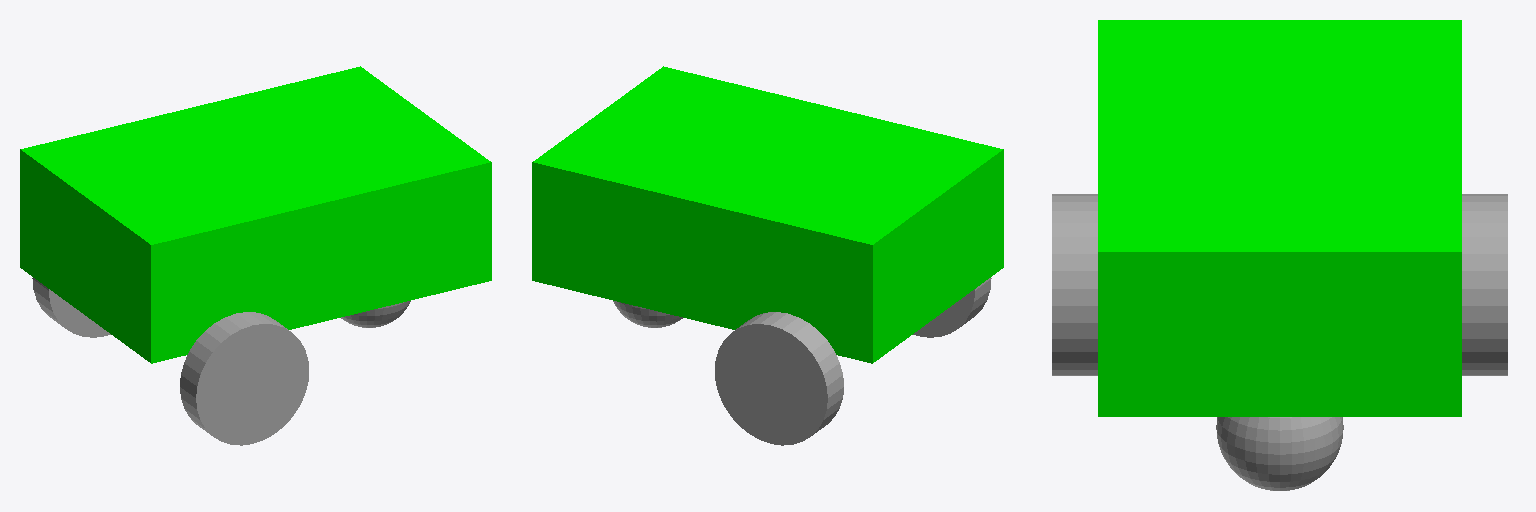
The robot description file, URDF, robot "three_wheel_robot":
<?xml version="1.0"?>
<robot name="three_wheel_robot">

    <material name="grey">
        <color rgba="0.7 0.7 0.7 1" />
    </material>

    <material name="green">
        <color rgba="0 1 0 1" />
    </material>

    <link name="base_footprint" />

    <link name="base_link">
        <visual>
            <geometry>
                <box size="0.6 0.4 0.2" />
            </geometry>
            <origin xyz="0 0 0.1" rpy="0 0 0" />
            <material name="green" />
        </visual>
        <collision>
            <origin xyz="0 0 0.1" rpy="0 0 0" />
            <geometry>
                <box size="0.6 0.4 0.2" />
            </geometry>
        </collision>
        <inertial>
            <origin xyz="0 0 0" rpy="0 0 0" />
            <mass value="3.0" />
            <inertia ixx="0.05" ixy="0.0" ixz="0.0"
                iyy="0.1" iyz="0.0"
                izz="0.1" />
        </inertial>
    </link>

    <link name="left_wheel">
        <visual>
            <geometry>
                <cylinder radius="0.1" length="0.05" />
            </geometry>
            <origin xyz="0 0 0" rpy="1.57 0 0" />
            <material name="grey" />
        </visual>
        <collision>
            <geometry>
                <cylinder radius="0.1" length="0.05" />
            </geometry>
            <origin xyz="0 0 0" rpy="1.57 0 0" />
        </collision>
        <inertial>
            <origin xyz="0 0 0" rpy="0 0 0" />
            <mass value="0.5" />
            <inertia ixx="0.0013542" ixy="0.0" ixz="0.0"
                iyy="0.0013542" iyz="0.0"
                izz="0.0025" />
        </inertial>
    </link>

    <link name="right_wheel">
        <visual>
            <geometry>
                <cylinder radius="0.1" length="0.05" />
            </geometry>
            <origin xyz="0 0 0" rpy="1.57 0 0" />
            <material name="grey" />
        </visual>
        <collision>
            <geometry>
                <cylinder radius="0.1" length="0.05" />
            </geometry>
            <origin xyz="0 0 0" rpy="1.57 0 0" />
        </collision>
        <inertial>
            <origin xyz="0 0 0" rpy="0 0 0" />
            <mass value="0.5" />
            <inertia ixx="0.0013542" ixy="0.0" ixz="0.0"
                iyy="0.0013542" iyz="0.0"
                izz="0.0025" />
        </inertial>
    </link>

    <link name="caster_wheel">
        <visual>
            <geometry>
                <sphere radius="0.07" />
            </geometry>
            <origin xyz="0 0 0" rpy="0 0 0" />
            <material name="grey" />
        </visual>
        <collision>
            <geometry>
                <sphere radius="0.07" />
            </geometry>
        </collision>
        <inertial>
            <origin xyz="0 0 0" rpy="0 0 0" />
            <mass value="0.03" />
            <inertia ixx="0.0000588" ixy="0.0" ixz="0.0"
                iyy="0.0000588" iyz="0.0"
                izz="0.0000588" />
        </inertial>
    </link>

    <gazebo reference="caster_wheel">
        <material>Gazebo/Black</material>
        <mu1 value="0.001" />
        <mu2 value="0.001" />
    </gazebo>

    <joint name="base_joint" type="fixed">
        <parent link="base_footprint" />
        <child link="base_link" />
        <origin xyz="0 0 0.1" rpy="0 0 0" />
    </joint>


    <joint name="base_left_wheel_joint" type="continuous">
        <parent link="base_link" />
        <child link="left_wheel" />
        <origin xyz="-0.15 0.225 -0.05" rpy="0 0 0" />
        <axis xyz="0 1 0" />
    </joint>

    <joint name="base_right_wheel_joint" type="continuous">
        <parent link="base_link" />
        <child link="right_wheel" />
        <origin xyz="-0.15 -0.225 -0.05" rpy="0 0 0" />
        <axis xyz="0 1 0" />
    </joint>

    <joint name="base_caster_wheel_joint" type="fixed">
        <parent link="base_link" />
        <child link="caster_wheel" />
        <origin xyz="0.2 0 -0.06" rpy="0 0 0" />
    </joint>

    <!-- Gazebo Properties -->
    <gazebo>
        <plugin name="diff_drive_controller" filename="libgazebo_ros_diff_drive.so">
            <ros>
                <namespace></namespace>
            </ros>
            <left_joint>base_left_wheel_joint</left_joint>
            <right_joint>base_right_wheel_joint</right_joint>

            <wheel_separation>0.6</wheel_separation>
            <wheel_diameter>0.2</wheel_diameter>

            <max_wheel_torque>10</max_wheel_torque>
            <max_wheel_acceleration>7</max_wheel_acceleration>

            <odometry_frame>odom</odometry_frame>
            <robot_base_frame>base_link</robot_base_frame>
            <publish_odom>true</publish_odom>
            <publish_odom_tf>true</publish_odom_tf>
            <publish_wheel_tf>true</publish_wheel_tf>
            <cmd_vel_topic>cmd_vel</cmd_vel_topic>
        </plugin>
    </gazebo>


</robot>

--- Render facts (derived) ---
3 views of the same robot in one strip: view 1: azimuth 30°, elevation 25°; view 2: azimuth 150°, elevation 25°; view 3: azimuth 270°, elevation 25° (orthographic).
Model three_wheel_robot with 5 links and 4 joints (2 continuous, 2 fixed), rooted at base_footprint, posed all joints at 0.
Links seen in each view (by area): view 1: base_link, right_wheel, left_wheel, caster_wheel; view 2: base_link, left_wheel, right_wheel, caster_wheel; view 3: base_link, left_wheel, right_wheel, caster_wheel.
Link boxes in pixels (<box>): base_link: <box>20,66,491,363</box>; right_wheel: <box>180,312,308,445</box>; left_wheel: <box>32,278,110,337</box>; caster_wheel: <box>341,301,410,327</box>; base_link: <box>532,66,1003,363</box>; left_wheel: <box>715,312,843,445</box>; right_wheel: <box>913,278,991,337</box>; caster_wheel: <box>613,301,682,327</box>; base_link: <box>1098,20,1461,416</box>; left_wheel: <box>1462,194,1507,375</box>; right_wheel: <box>1052,194,1097,375</box>; caster_wheel: <box>1216,417,1343,490</box>.
Size in the robot's own frame: 0.6 by 0.5002 by 0.35 metres.
Geometry: primitives only (box / cylinder / sphere), no mesh files.